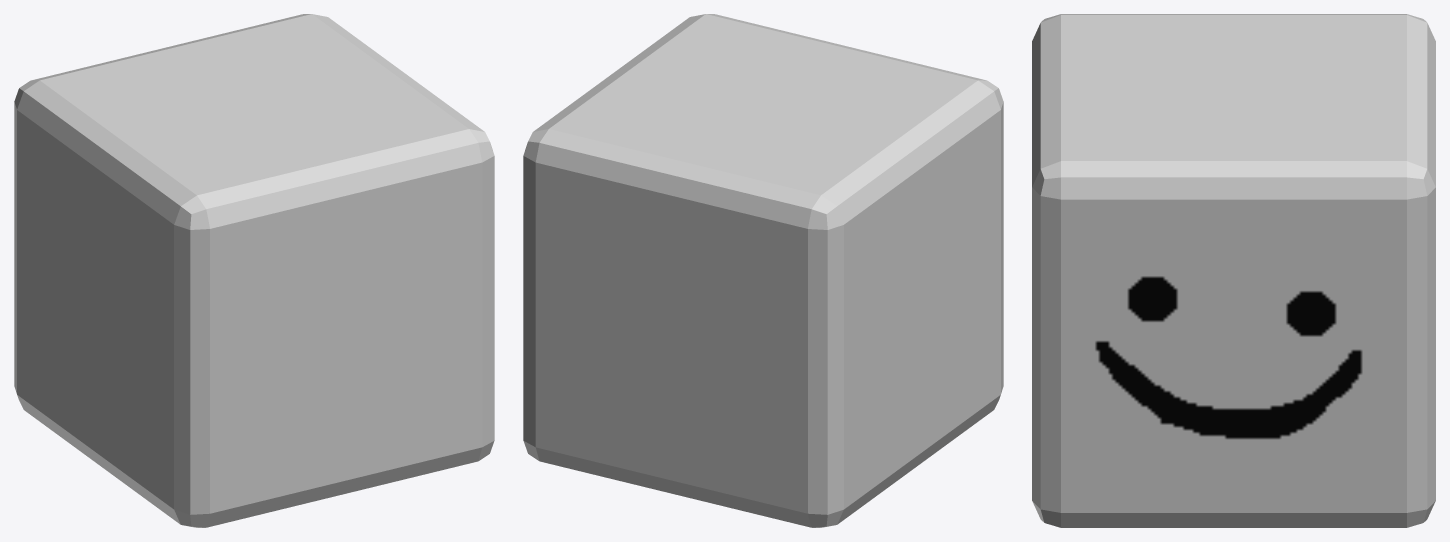
3 views of the same model, side by side, from view 1: azimuth 30°, elevation 25°; view 2: azimuth 150°, elevation 25°; view 3: azimuth 270°, elevation 25° (orthographic). The views are drawn at different scales.
Parts seen in each view (by area): view 1: Cube; view 2: Cube; view 3: Cube, face.
Boxes of the visible parts, box(x1,y1,x2,y2) form: Cube: box(14, 14, 494, 527); Cube: box(523, 14, 1003, 527); Cube: box(1032, 14, 1435, 527); face: box(1095, 276, 1362, 439).
Size of the model in its own units: 0.5025 by 0.5 by 0.5.
Materials: 1 (1 with a texture image).
